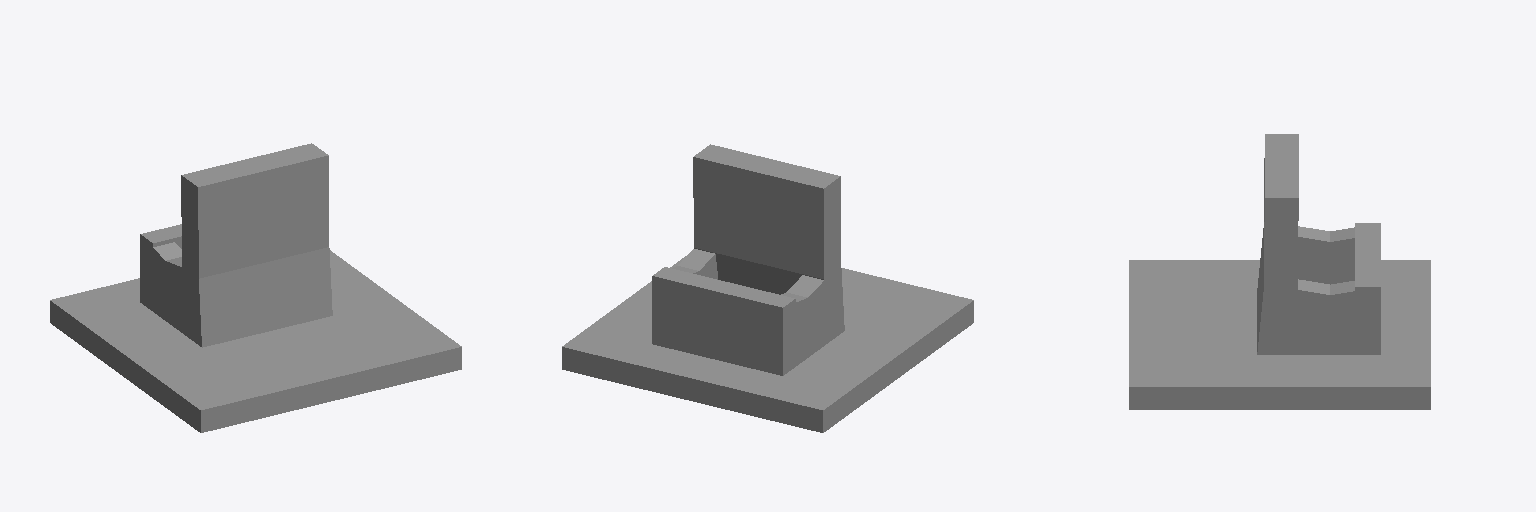
The model's file is portacenere_o.obj.
3 renders of one model, left to right at view 1: azimuth 30°, elevation 25°; view 2: azimuth 150°, elevation 25°; view 3: azimuth 270°, elevation 25°, orthographic.
Visible parts, largest first — view 1: nodebox4; view 2: nodebox4; view 3: nodebox4.
Boxes of the visible parts, x1,y1,x2,y2 form: nodebox4: [50, 143, 461, 432]; nodebox4: [562, 144, 973, 432]; nodebox4: [1129, 134, 1430, 409].
Bounding box in the file's own units: 0.75 × 0.4948 × 0.75.